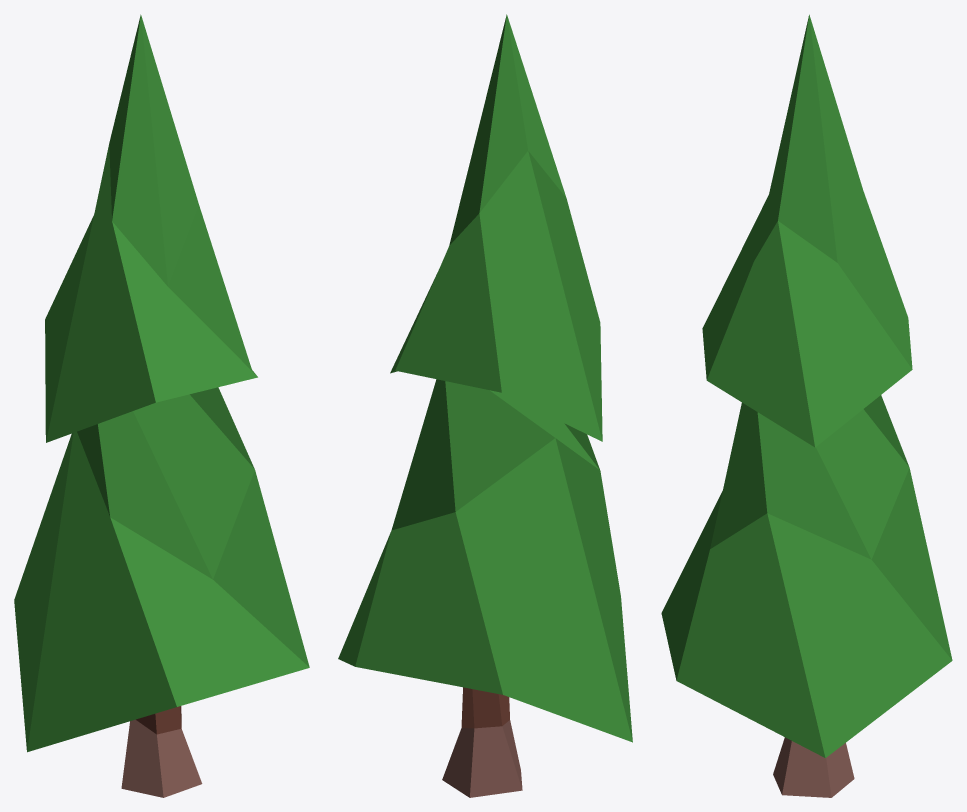
File: arbol pino 5.fbx
The picture shows the model from 3 angles, left to right: view 1: azimuth 30°, elevation 25°; view 2: azimuth 150°, elevation 25°; view 3: azimuth 270°, elevation 25°; orthographic projection.
Parts seen in each view (by area): view 1: SpruceTree2; view 2: SpruceTree2; view 3: SpruceTree2.
Part boxes in pixels (bbox=[...]): SpruceTree2: bbox=[14, 14, 309, 797]; SpruceTree2: bbox=[338, 14, 632, 797]; SpruceTree2: bbox=[661, 14, 952, 797].
Bounding box in the file's own units: 9981 × 26220 × 9120.
